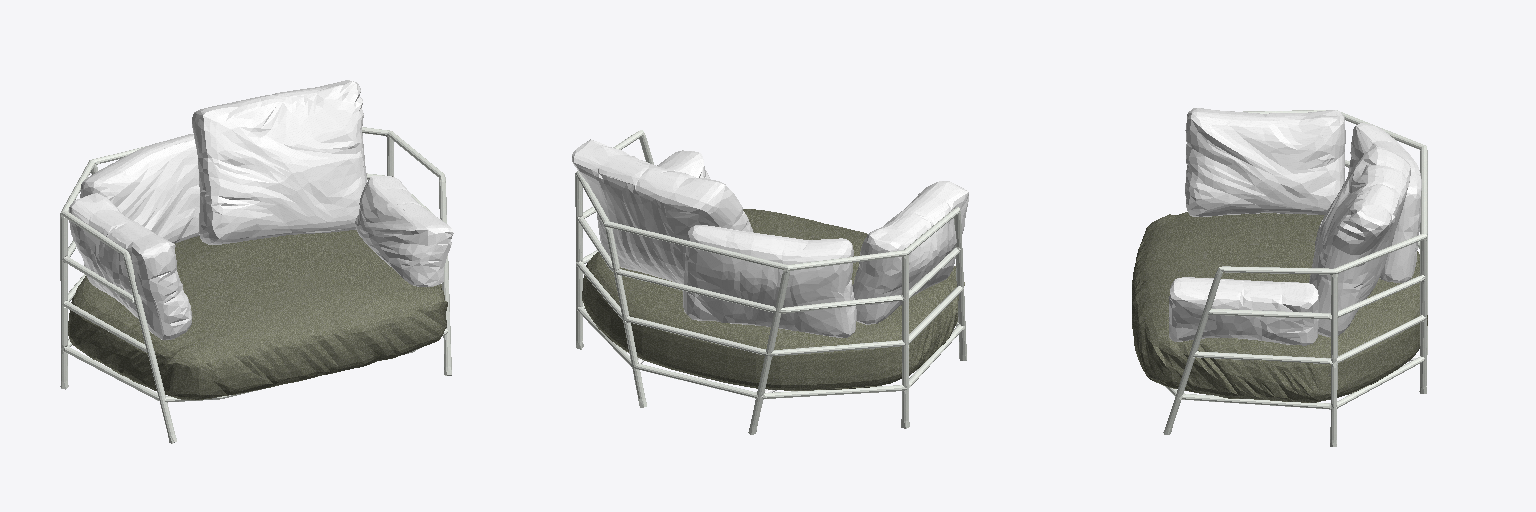
The picture shows the model from 3 angles: view 1: azimuth 30°, elevation 25°; view 2: azimuth 150°, elevation 25°; view 3: azimuth 270°, elevation 25°; orthographic projection.
Visible parts, largest first — view 1: Mesh7 G_370_O_Dehors_component_01_1 Model, Mesh4 G_370_O_Dehors_component_01_1 Model, Mesh8 G_370_O_Dehors_component_01_1 Model, Mesh5 G_370_O_Dehors_component_01_1 Model, Mesh1 G_370_O_Dehors_component_01_1 Model, Mesh6 G_370_O_Dehors_component_01_1 Model; view 2: Mesh7 G_370_O_Dehors_component_01_1 Model, Mesh1 G_370_O_Dehors_component_01_1 Model, Mesh5 G_370_O_Dehors_component_01_1 Model, Mesh4 G_370_O_Dehors_component_01_1 Model, Mesh8 G_370_O_Dehors_component_01_1 Model, Mesh6 G_370_O_Dehors_component_01_1 Model; view 3: Mesh7 G_370_O_Dehors_component_01_1 Model, Mesh8 G_370_O_Dehors_component_01_1 Model, Mesh1 G_370_O_Dehors_component_01_1 Model, Mesh4 G_370_O_Dehors_component_01_1 Model, Mesh6 G_370_O_Dehors_component_01_1 Model, Mesh5 G_370_O_Dehors_component_01_1 Model.
Boxes of the visible parts, <box> form: Mesh7 G_370_O_Dehors_component_01_1 Model: <box>68,230,447,399</box>; Mesh4 G_370_O_Dehors_component_01_1 Model: <box>192,80,366,244</box>; Mesh8 G_370_O_Dehors_component_01_1 Model: <box>69,193,191,339</box>; Mesh5 G_370_O_Dehors_component_01_1 Model: <box>80,134,199,265</box>; Mesh1 G_370_O_Dehors_component_01_1 Model: <box>60,127,451,443</box>; Mesh6 G_370_O_Dehors_component_01_1 Model: <box>355,176,453,286</box>; Mesh7 G_370_O_Dehors_component_01_1 Model: <box>582,209,964,390</box>; Mesh1 G_370_O_Dehors_component_01_1 Model: <box>575,130,966,434</box>; Mesh5 G_370_O_Dehors_component_01_1 Model: <box>683,225,856,337</box>; Mesh4 G_370_O_Dehors_component_01_1 Model: <box>572,139,753,283</box>; Mesh8 G_370_O_Dehors_component_01_1 Model: <box>852,181,968,324</box>; Mesh6 G_370_O_Dehors_component_01_1 Model: <box>657,150,709,178</box>; Mesh7 G_370_O_Dehors_component_01_1 Model: <box>1132,212,1427,402</box>; Mesh8 G_370_O_Dehors_component_01_1 Model: <box>1185,108,1345,216</box>; Mesh1 G_370_O_Dehors_component_01_1 Model: <box>1163,110,1427,446</box>; Mesh4 G_370_O_Dehors_component_01_1 Model: <box>1309,146,1410,336</box>; Mesh6 G_370_O_Dehors_component_01_1 Model: <box>1169,277,1318,345</box>; Mesh5 G_370_O_Dehors_component_01_1 Model: <box>1348,123,1421,282</box>.
Bounding box in the file's own units: 108 × 68.75 × 82.5.
4 materials, 3 textured.